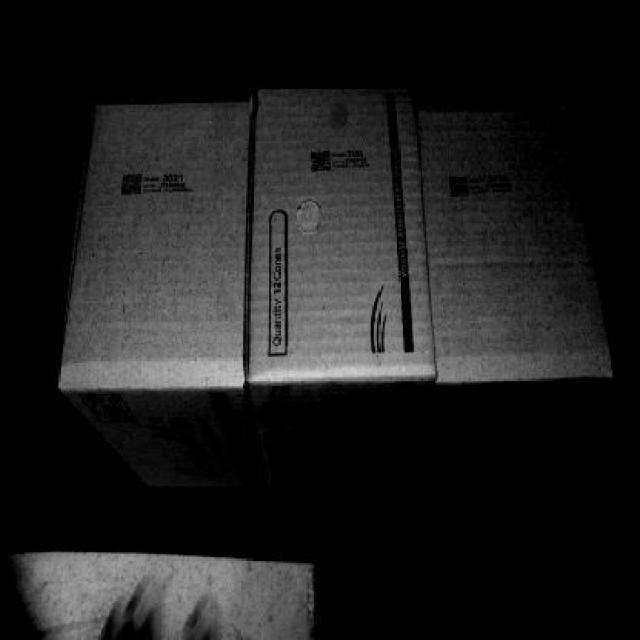cardboxes: (60, 98, 245, 382), (420, 110, 608, 372), (260, 92, 428, 378)
